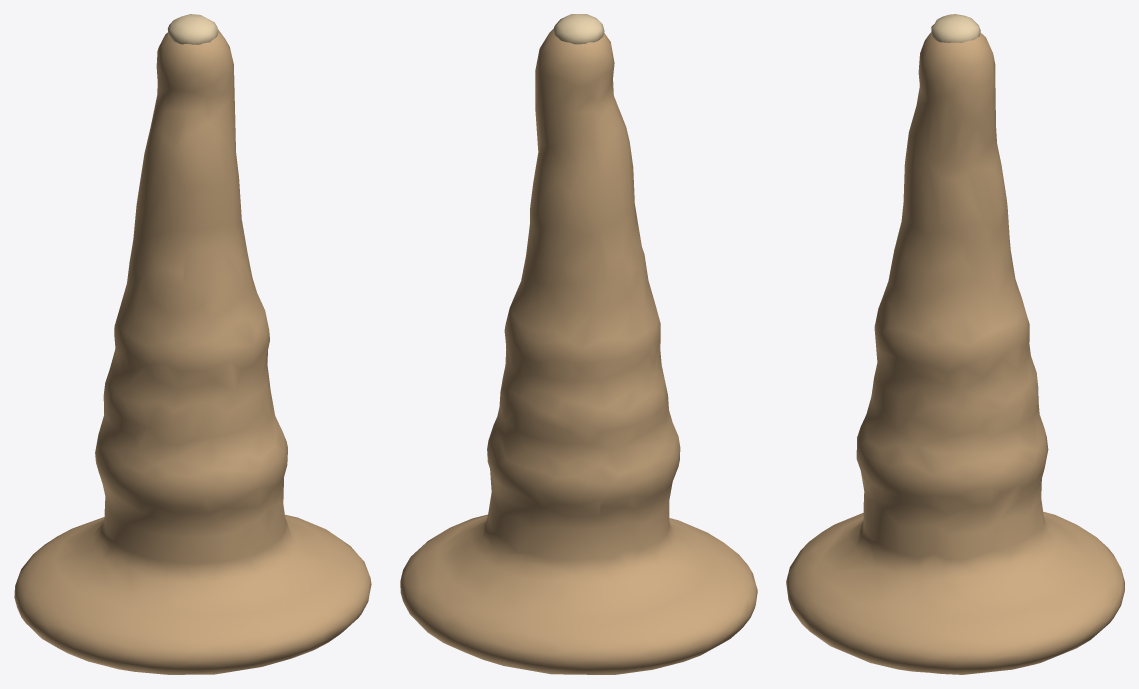
Rendered from stalagmite-a.glb.
3 renders of one model, left to right at view 1: azimuth 30°, elevation 25°; view 2: azimuth 150°, elevation 25°; view 3: azimuth 270°, elevation 25°, orthographic.
Visible parts, largest first — view 1: calcite0, pale1; view 2: calcite0, pale1; view 3: calcite0, pale1.
Part boxes in pixels (bbox=[...]): calcite0: bbox=[14, 29, 371, 674]; pale1: bbox=[167, 14, 218, 44]; calcite0: bbox=[400, 29, 757, 674]; pale1: bbox=[553, 14, 604, 44]; calcite0: bbox=[786, 32, 1124, 674]; pale1: bbox=[931, 14, 980, 42].
Bounding box in the file's own units: 1.15 × 2.19 × 1.09.
